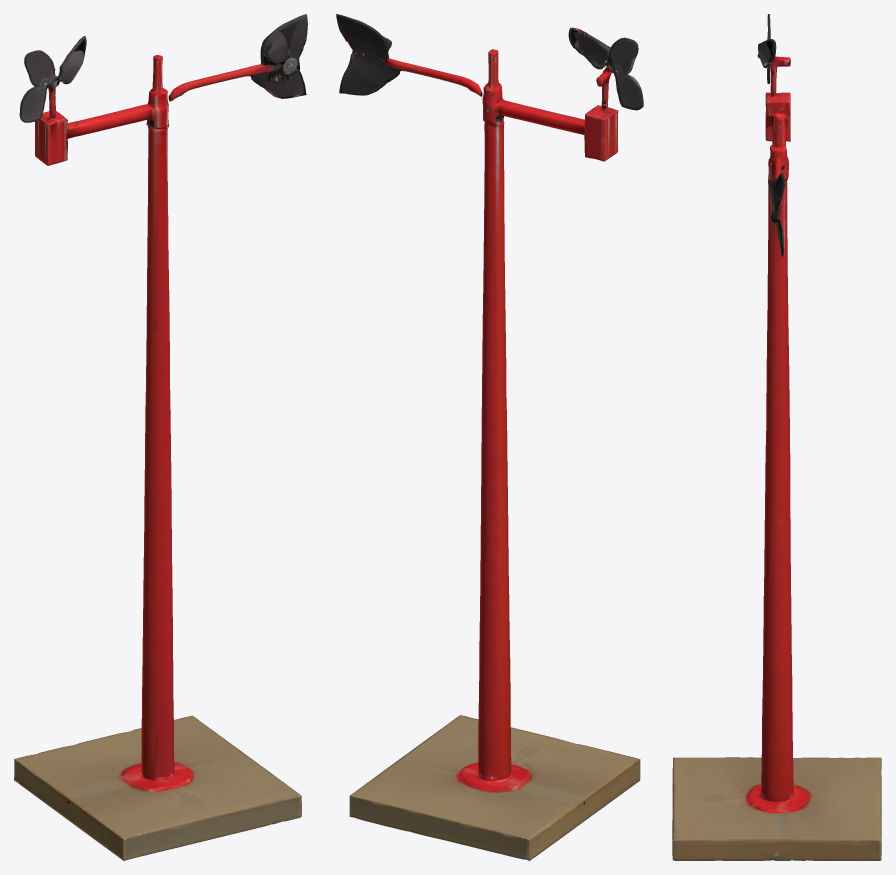
Rendered from LLWAS.glb.
3 renders of one model, left to right at view 1: azimuth 30°, elevation 25°; view 2: azimuth 150°, elevation 25°; view 3: azimuth 270°, elevation 25°, orthographic. The views are drawn at different scales.
Bounding box in the file's own units: 0.7906 × 2 × 0.5093.
Materials: 1 (1 with a texture image).
